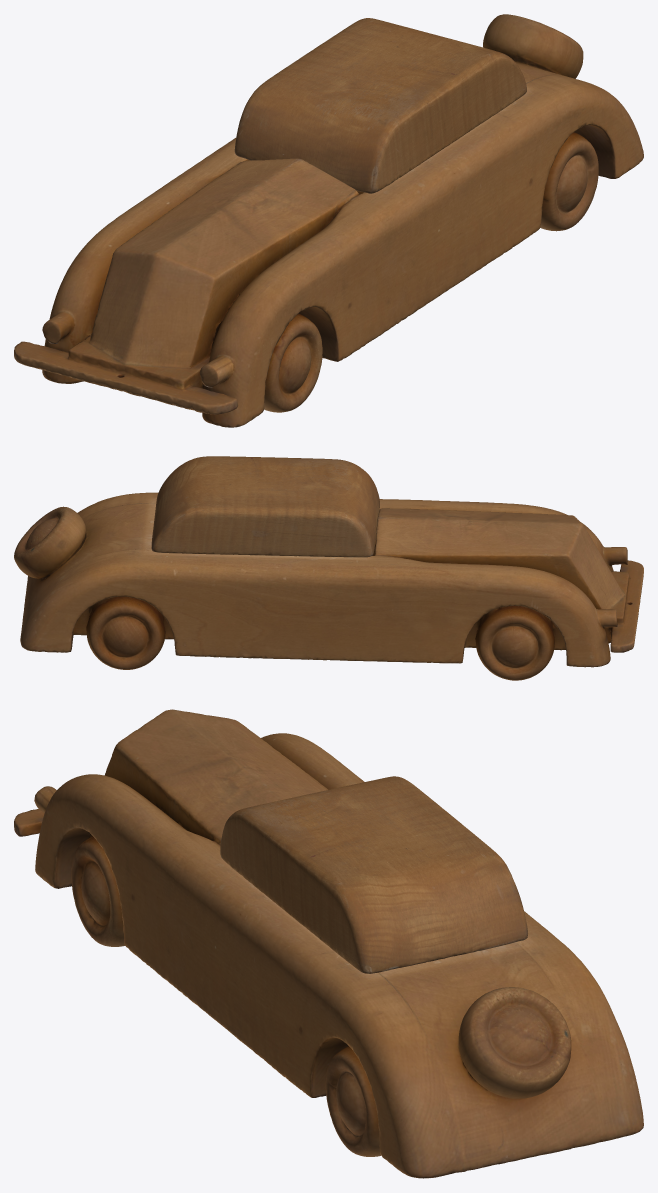
Rendered from asset.glb.
The picture shows the model from 3 angles, top to bottom: view 1: azimuth 30°, elevation 25°; view 2: azimuth 150°, elevation 25°; view 3: azimuth 270°, elevation 25°; orthographic projection. The views are drawn at different scales.
Parts seen in each view (by area): view 1: Streamline_Automobile_Body_0, Streamline_Automobile_Hood_1; view 2: Streamline_Automobile_Body_0, Streamline_Automobile_Hood_1; view 3: Streamline_Automobile_Body_0, Streamline_Automobile_Hood_1.
Boxes of the visible parts, x1=… form: Streamline_Automobile_Body_0: x1=14, y1=14, x2=643, y2=427; Streamline_Automobile_Hood_1: x1=234, y1=18, x2=526, y2=193; Streamline_Automobile_Body_0: x1=14, y1=492, x2=643, y2=680; Streamline_Automobile_Hood_1: x1=151, y1=456, x2=379, y2=557; Streamline_Automobile_Body_0: x1=14, y1=709, x2=643, y2=1178; Streamline_Automobile_Hood_1: x1=220, y1=776, x2=527, y2=973.
Bounding box in the file's own units: 0.4084 × 0.1142 × 0.2851.
Materials: 2 (2 with a texture image).
